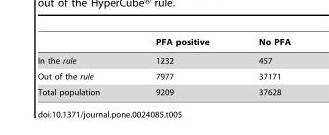table: (37, 37, 290, 96)
table column: (127, 37, 233, 96), (37, 37, 127, 96), (233, 37, 290, 96)
table column header: (37, 37, 290, 51)
table row: (37, 51, 290, 68), (37, 68, 290, 84), (37, 37, 290, 51), (37, 84, 290, 96)
